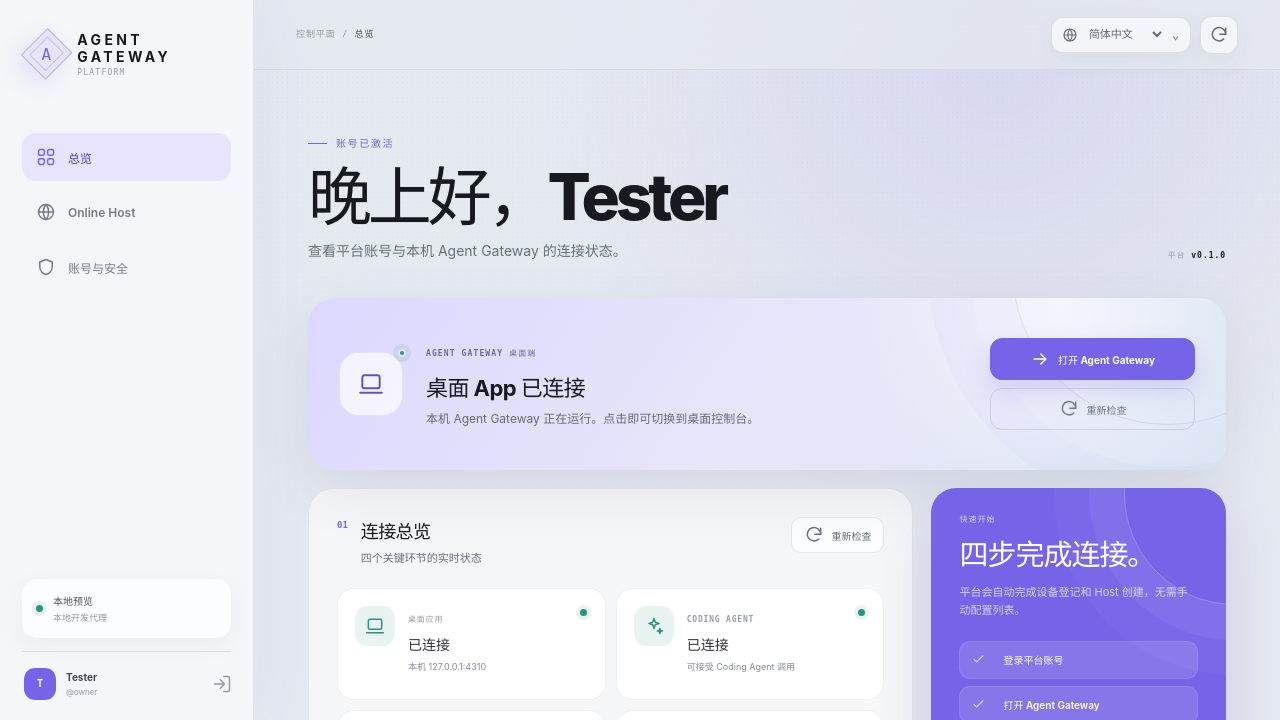
Test: App user flows › verifies and focuses a real local desktop service without using custom protocol state as proof
Expected: the heading "桌面 App 已连接" is shown, x1=426 y1=375 x2=585 y2=401
Expected: the text "可接受 Coding Agent 调用" is shown, x1=687 y1=661 x2=795 y2=672
What coordinates should you click on to do the following:
click the button "打开 Agent Gateway"
I would click on:
 (1092, 359)
Its box is x1=990 y1=338 x2=1195 y2=380.
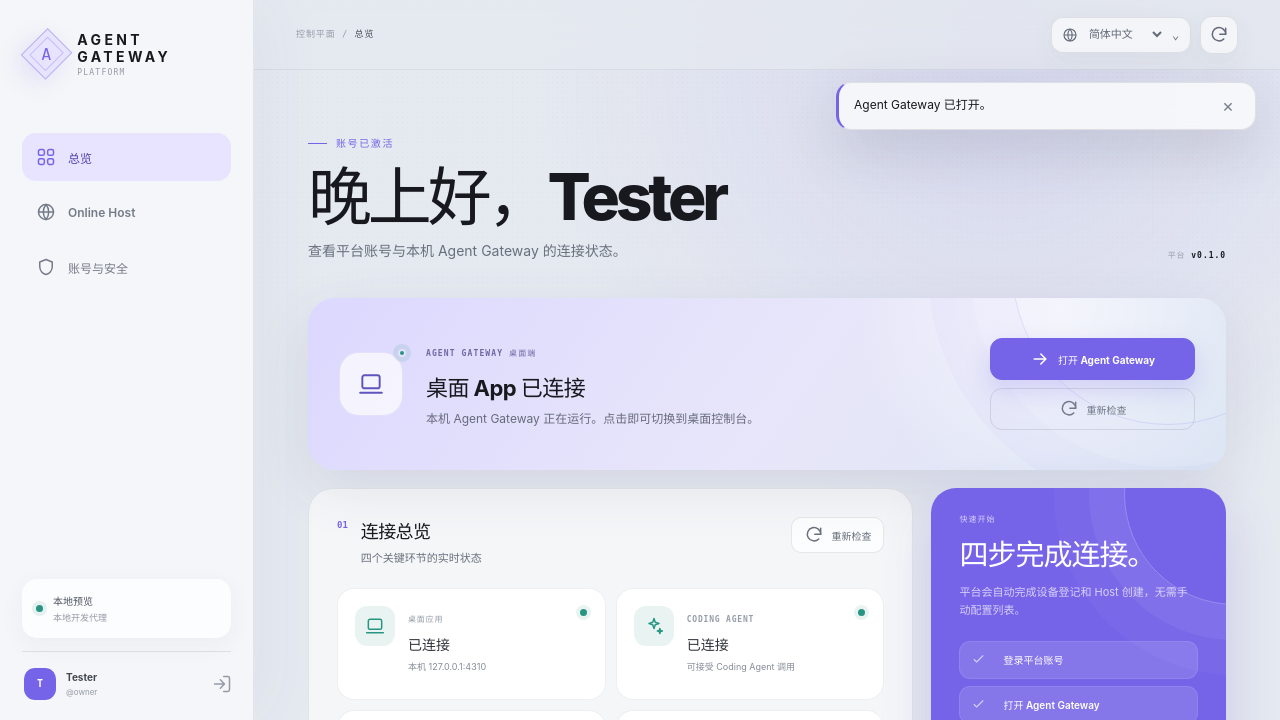
Now the text "Agent Gateway 已打开。" is shown, box x1=854 y1=96 x2=992 y2=114
